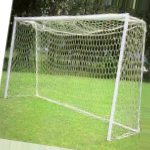goals: (5, 12, 148, 140)
